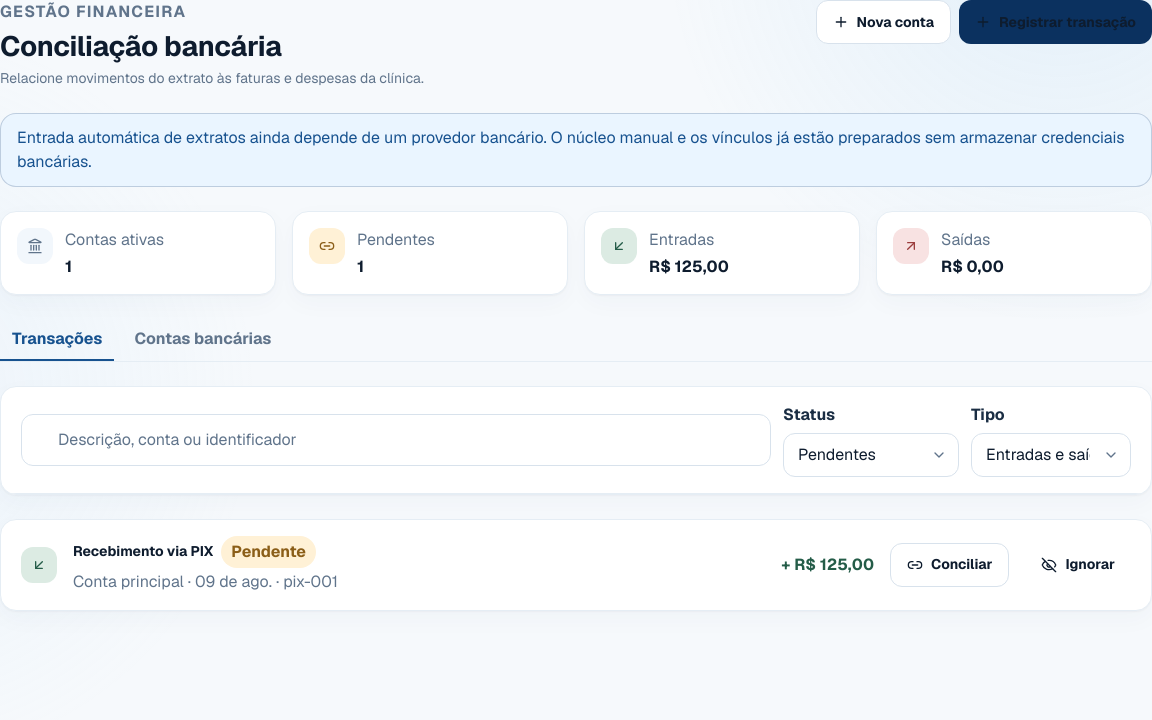
Test case: aviso de divergência › avisa quando o valor do registro difere do extrato
Click the button "Conciliar". click: (950, 565)
box: [890,543,1010,587]
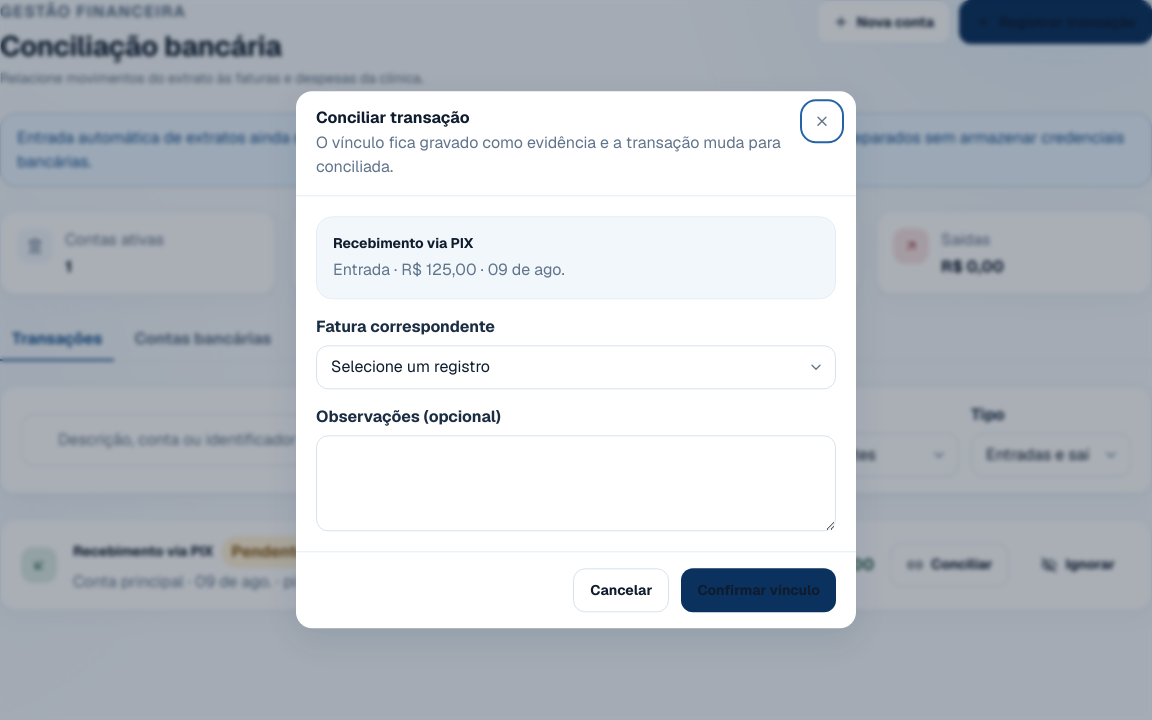
Select "Fatura · João · R$ 90,00" in the dropdown labelled "Fatura correspondente". click: (576, 368)
box: [316,346,836,390]
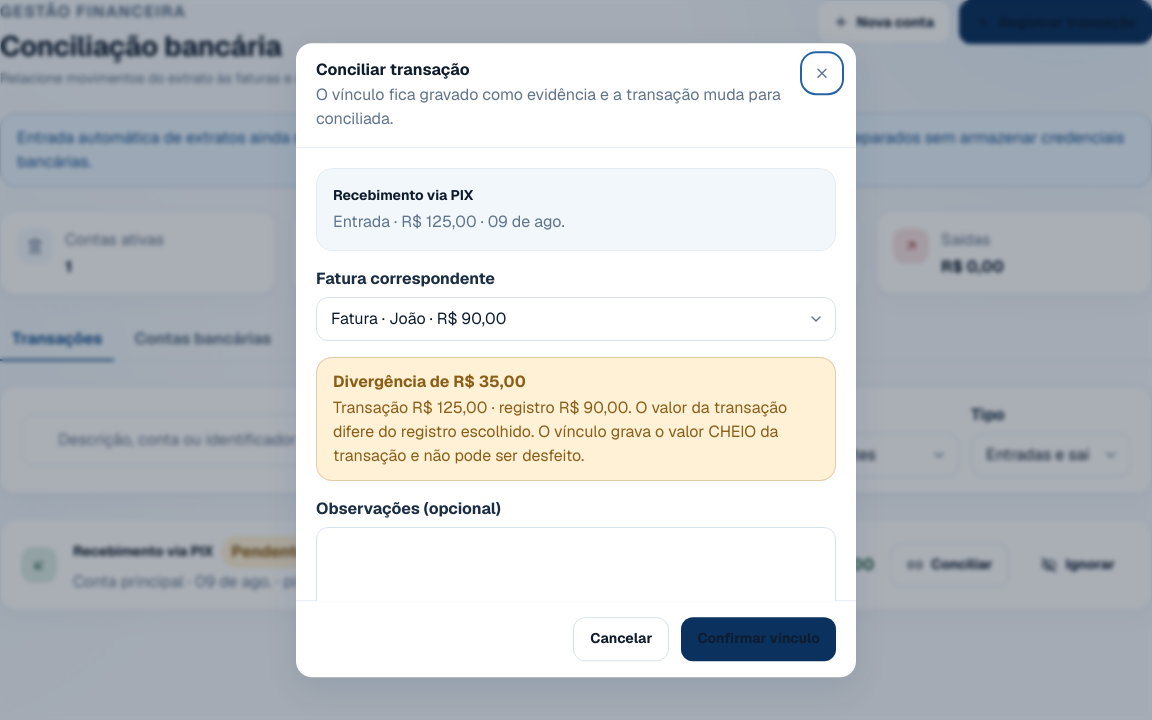
Check: the text "Divergência de R$ 35,00" is shown, box [333,372,526,393]
Check: the text "valor CHEIO da transação" is shown, box [333,398,787,467]
